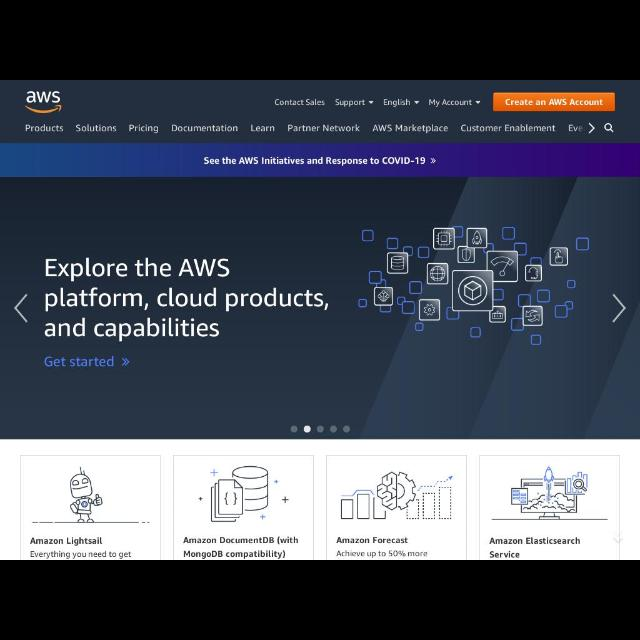icon: (14, 292, 31, 324), (610, 293, 626, 323), (601, 120, 617, 136), (589, 122, 595, 136), (474, 98, 482, 105), (431, 157, 437, 165), (414, 100, 420, 106), (368, 100, 374, 104)
image: (359, 226, 589, 350), (328, 455, 467, 533), (174, 455, 312, 533), (24, 455, 162, 521), (480, 456, 620, 520), (24, 85, 66, 115)
link: (44, 352, 130, 370)
multitab: (22, 120, 598, 140), (271, 94, 485, 112)
pageindicator: (290, 425, 352, 435)
spinner: (428, 96, 482, 110), (382, 97, 422, 109), (335, 98, 375, 109)
text: (45, 255, 333, 341), (182, 536, 298, 560), (205, 156, 425, 168), (489, 536, 581, 560), (460, 122, 558, 134), (30, 551, 132, 559), (374, 124, 448, 134), (337, 550, 428, 558), (31, 537, 103, 547), (337, 536, 409, 546), (171, 124, 239, 134), (287, 125, 361, 134), (25, 122, 65, 134), (428, 97, 474, 107), (128, 122, 160, 136), (74, 124, 118, 134), (274, 100, 326, 108), (250, 123, 276, 133), (335, 98, 365, 106), (383, 99, 411, 107), (570, 124, 584, 132)
textbutton: (493, 92, 615, 111)
